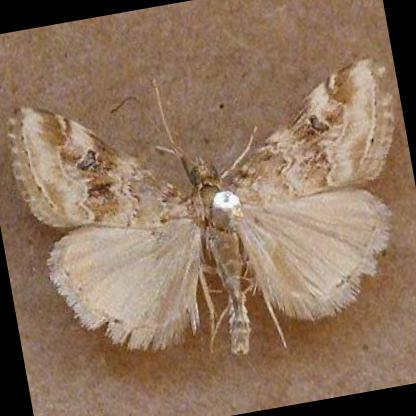Hellula undalis: (3, 51, 394, 369)
